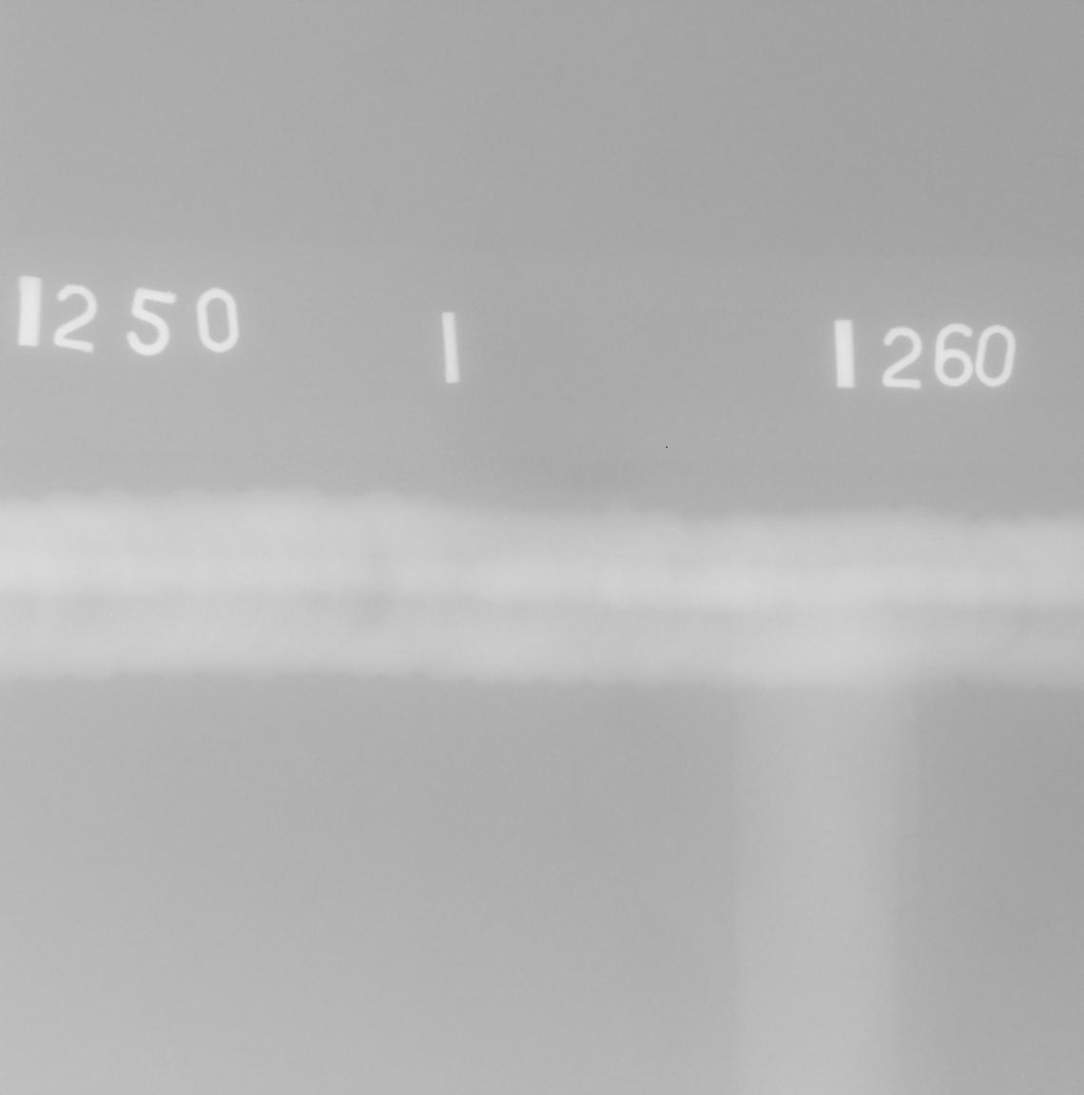Pore/Porosity: (1062, 622, 1068, 627)
